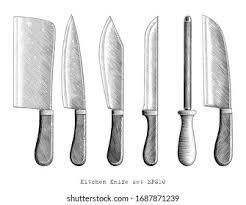Knife: (12, 15, 55, 165), (201, 14, 233, 165), (98, 15, 124, 165), (61, 13, 86, 165), (177, 15, 196, 165), (141, 15, 158, 165)
